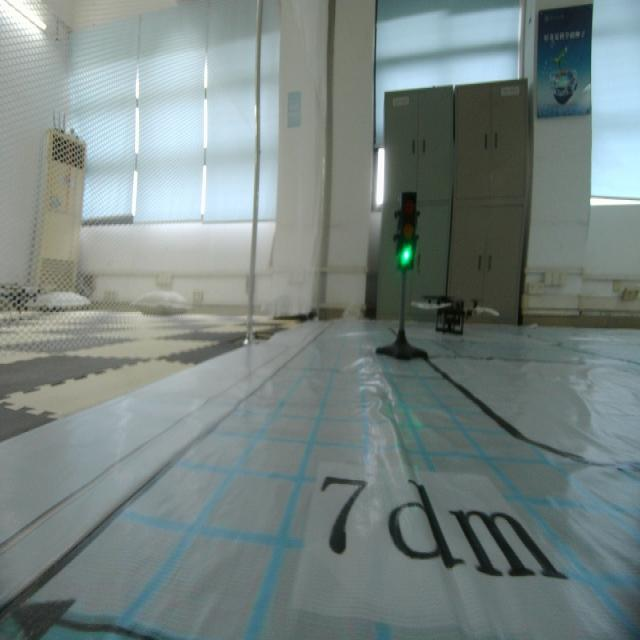green: (396, 192, 418, 275)
